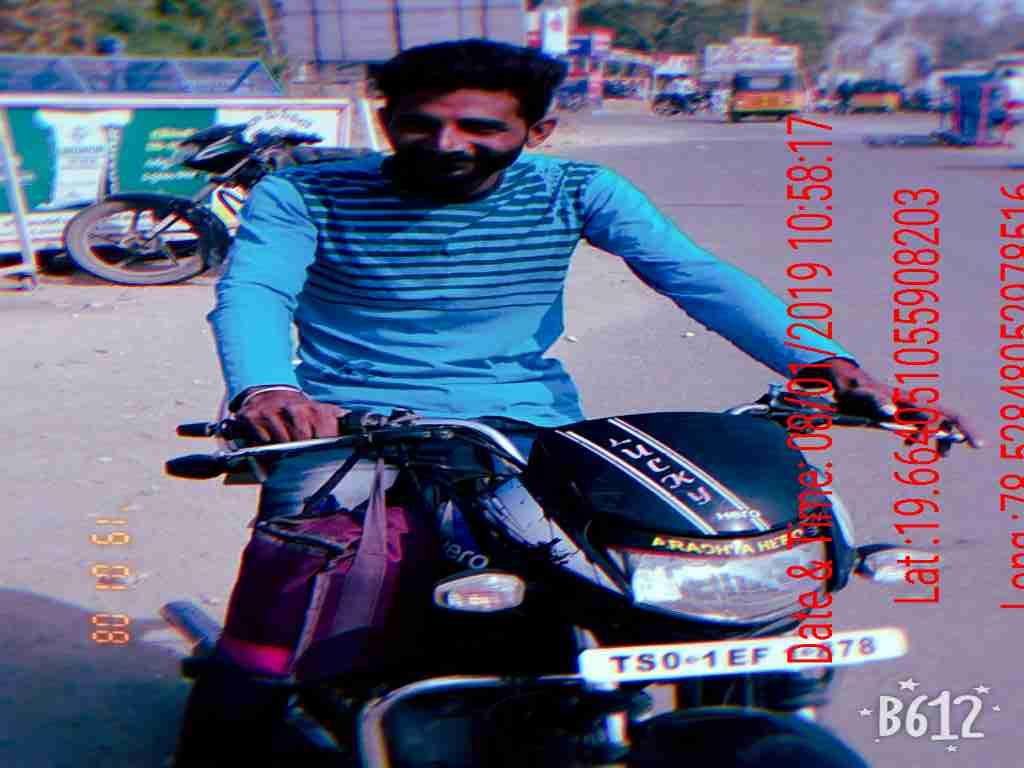plate: (579, 626, 916, 694)
